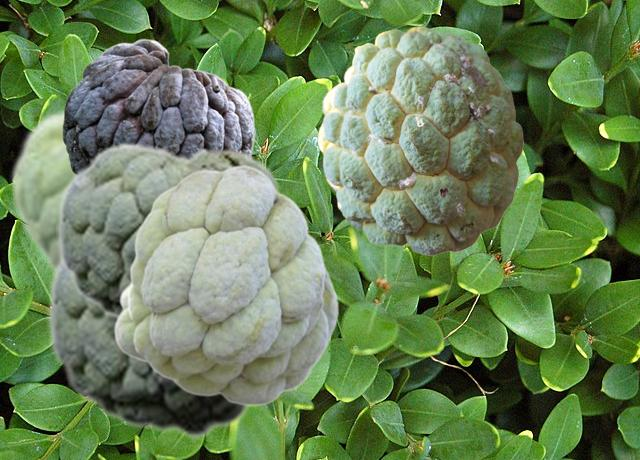atis: (113, 164, 338, 405), (317, 26, 522, 254), (56, 141, 285, 321), (46, 253, 256, 438), (62, 38, 254, 172), (8, 102, 71, 276)
